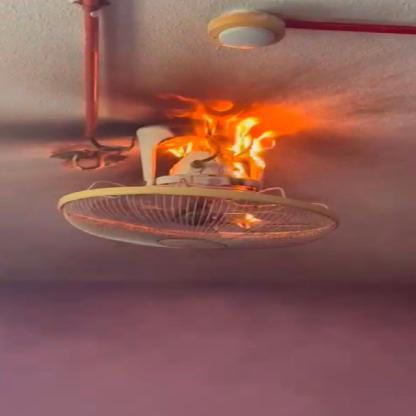fire: (152, 93, 286, 184)
